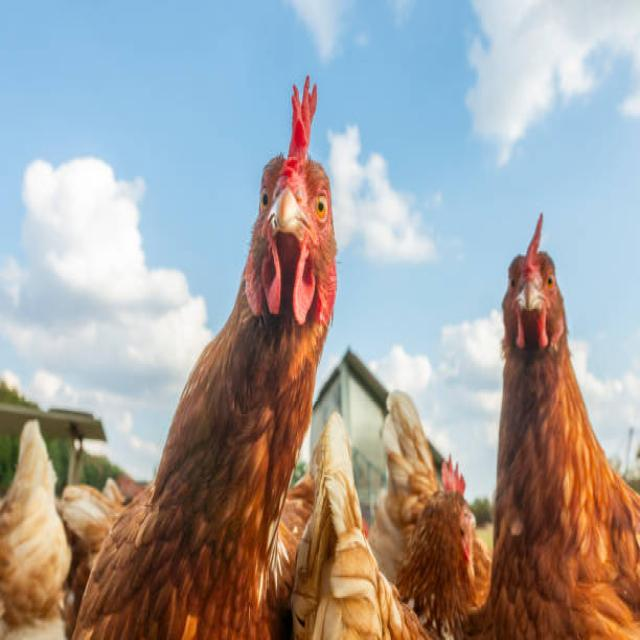Chicken: (108, 66, 336, 640), (486, 222, 640, 640), (320, 436, 485, 640), (0, 412, 79, 638)
